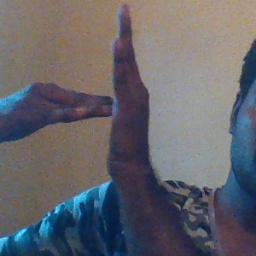Z: (48, 5, 162, 190)
